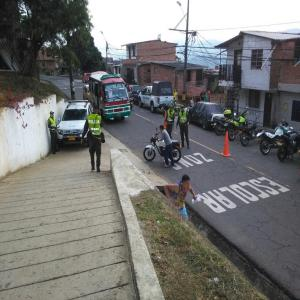Vehicle-registration-plate: (69, 137, 76, 142)
